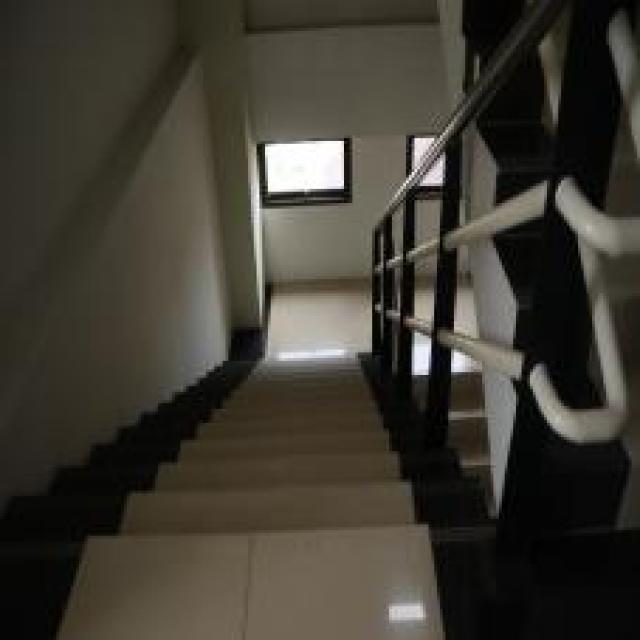downstair: (186, 389, 400, 637)
